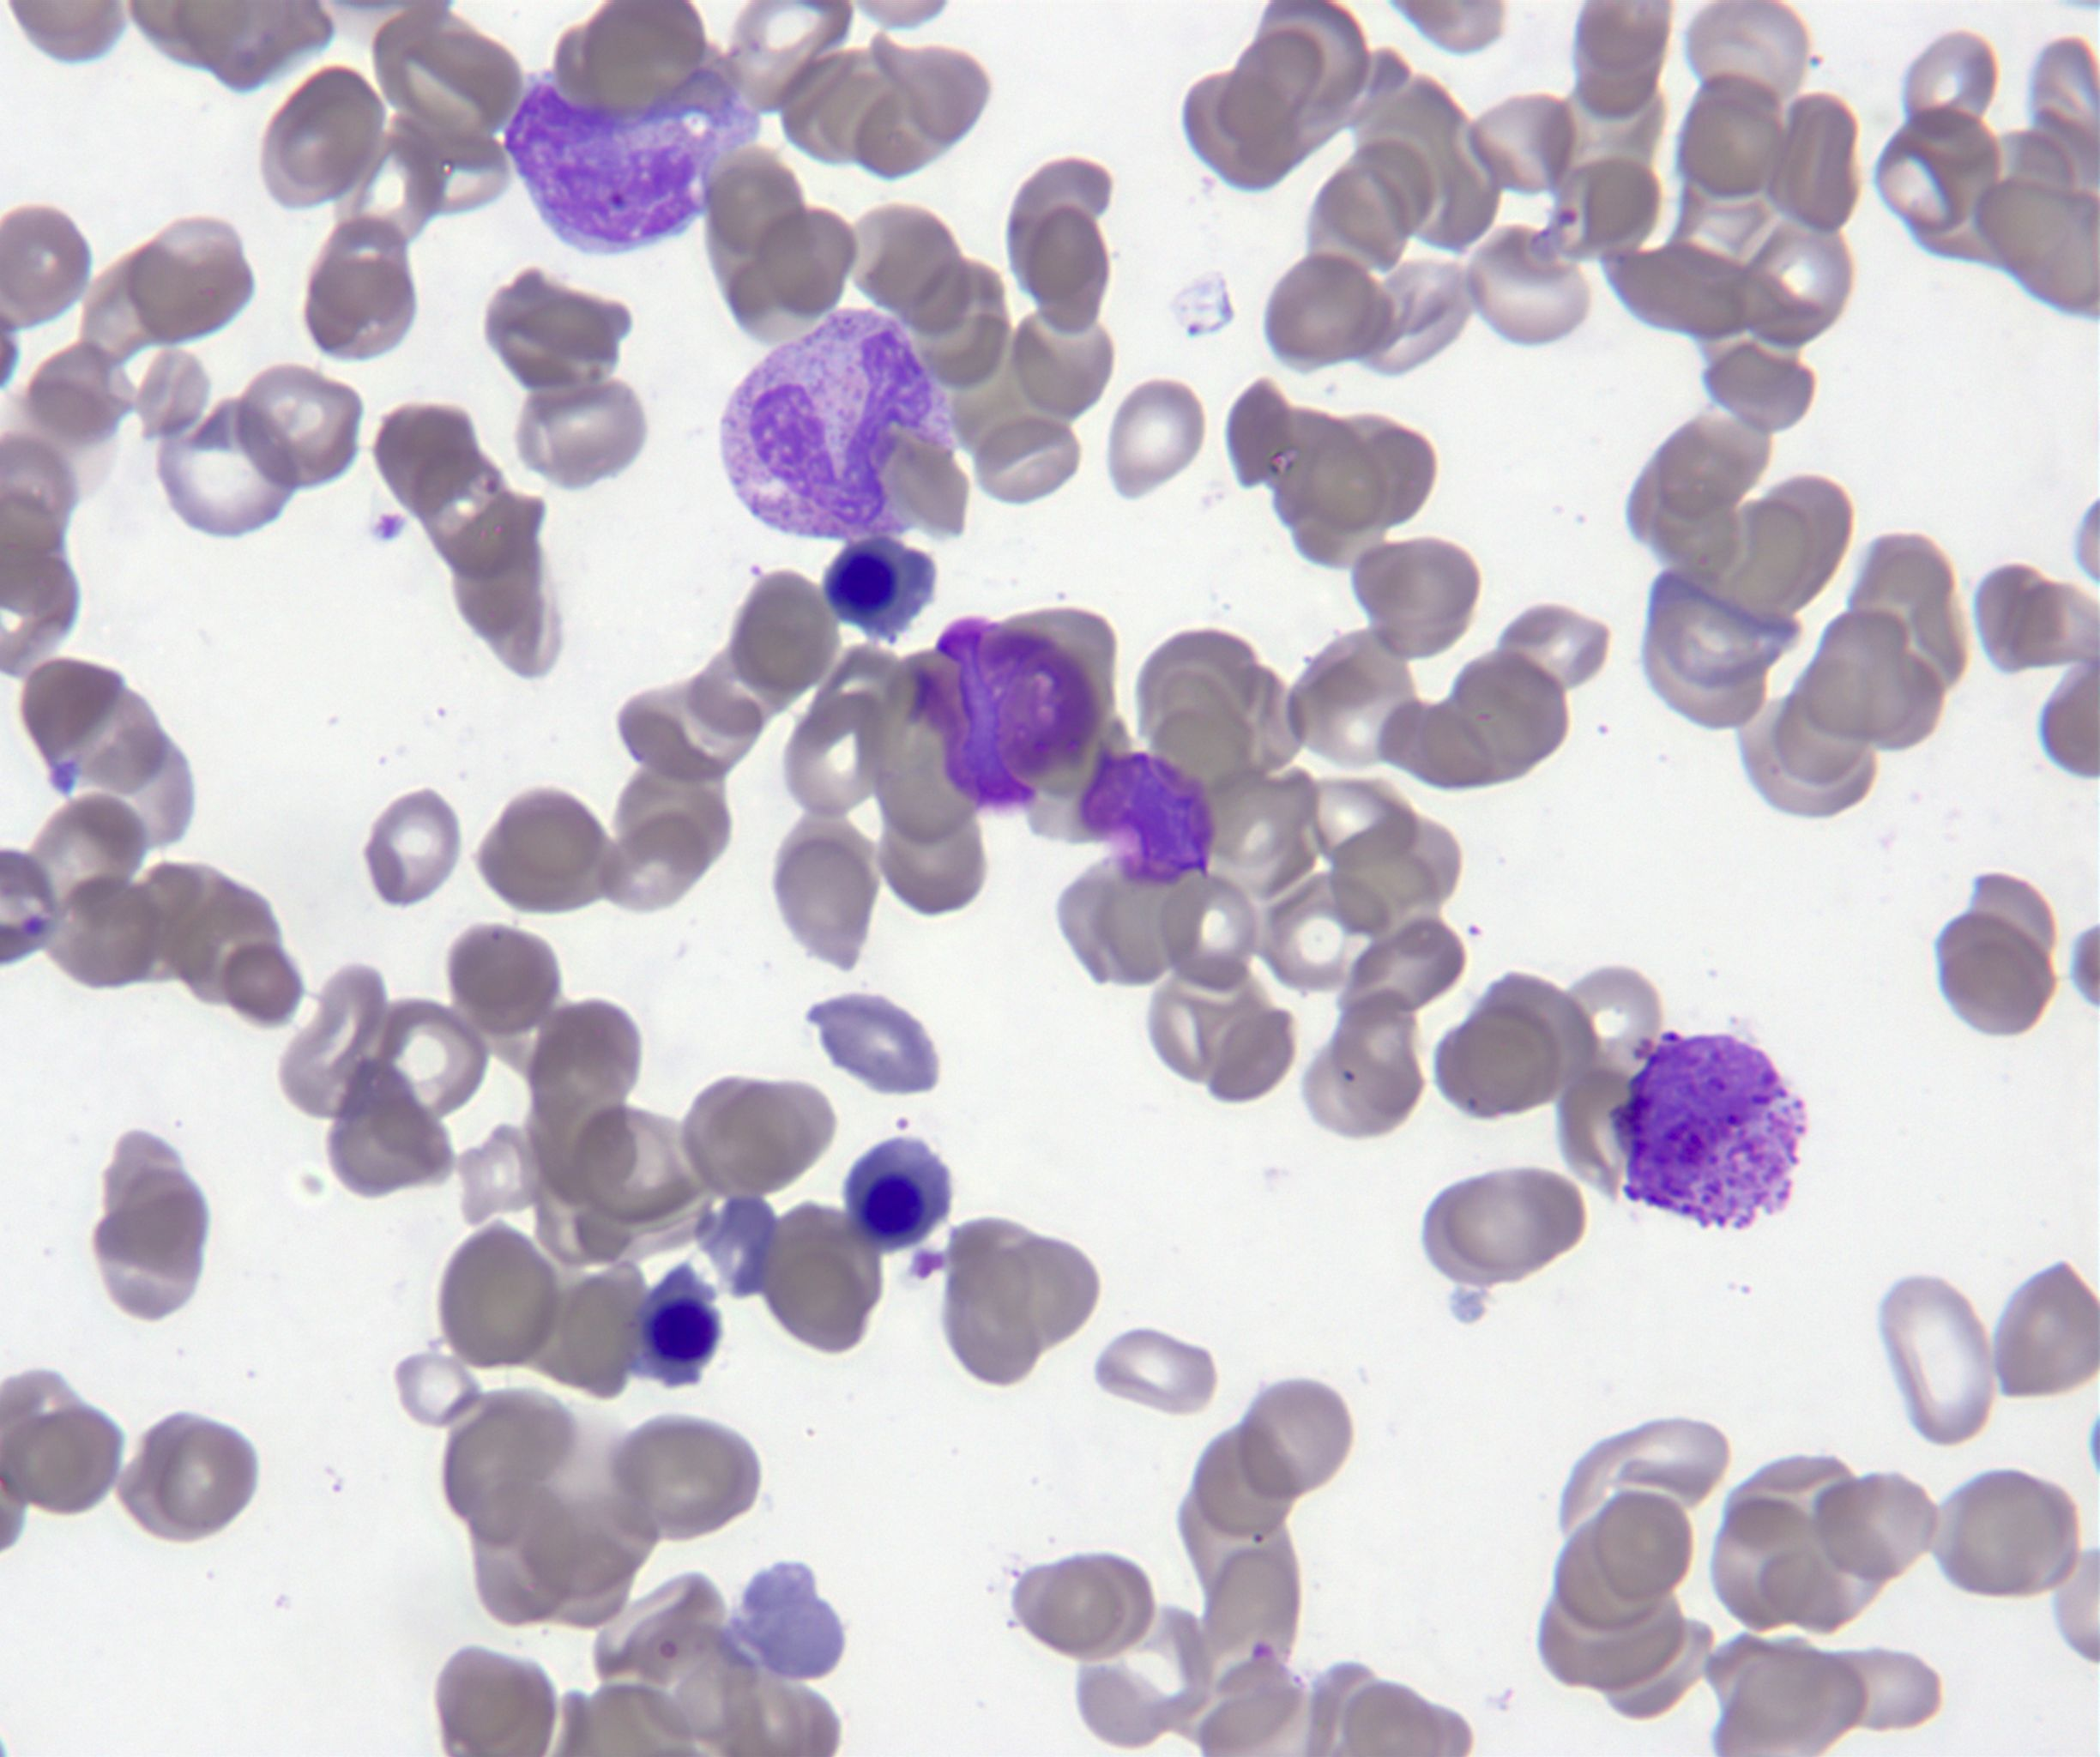24: (842, 1136, 952, 1249), (628, 1261, 724, 1389), (823, 536, 935, 642)
4: (502, 44, 760, 256)
5: (722, 307, 959, 539)
B4: (1612, 1031, 1812, 1234)
x: (891, 618, 1102, 810), (1080, 749, 1217, 890)
